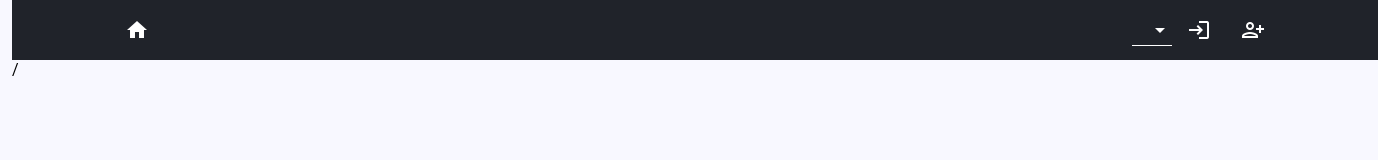
Test: BlogPostComponent › should navigate to the login page in the public content
What coordinates should you click on to do the following:
click the link with test id "login"
I would click on:
 (1199, 30)
Its box is [1187, 18, 1211, 42].
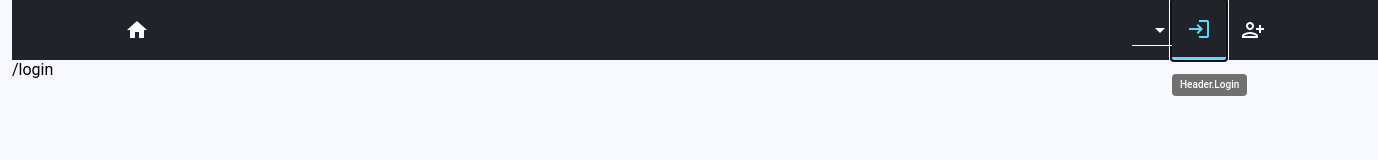
Check: the text with test id "location-display" reads "/login", box [12, 60, 53, 79]
